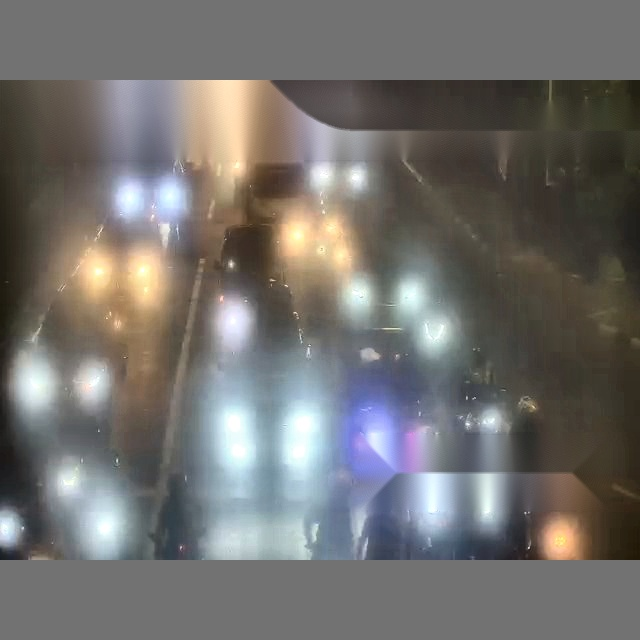Motor: (217, 293, 253, 364)
